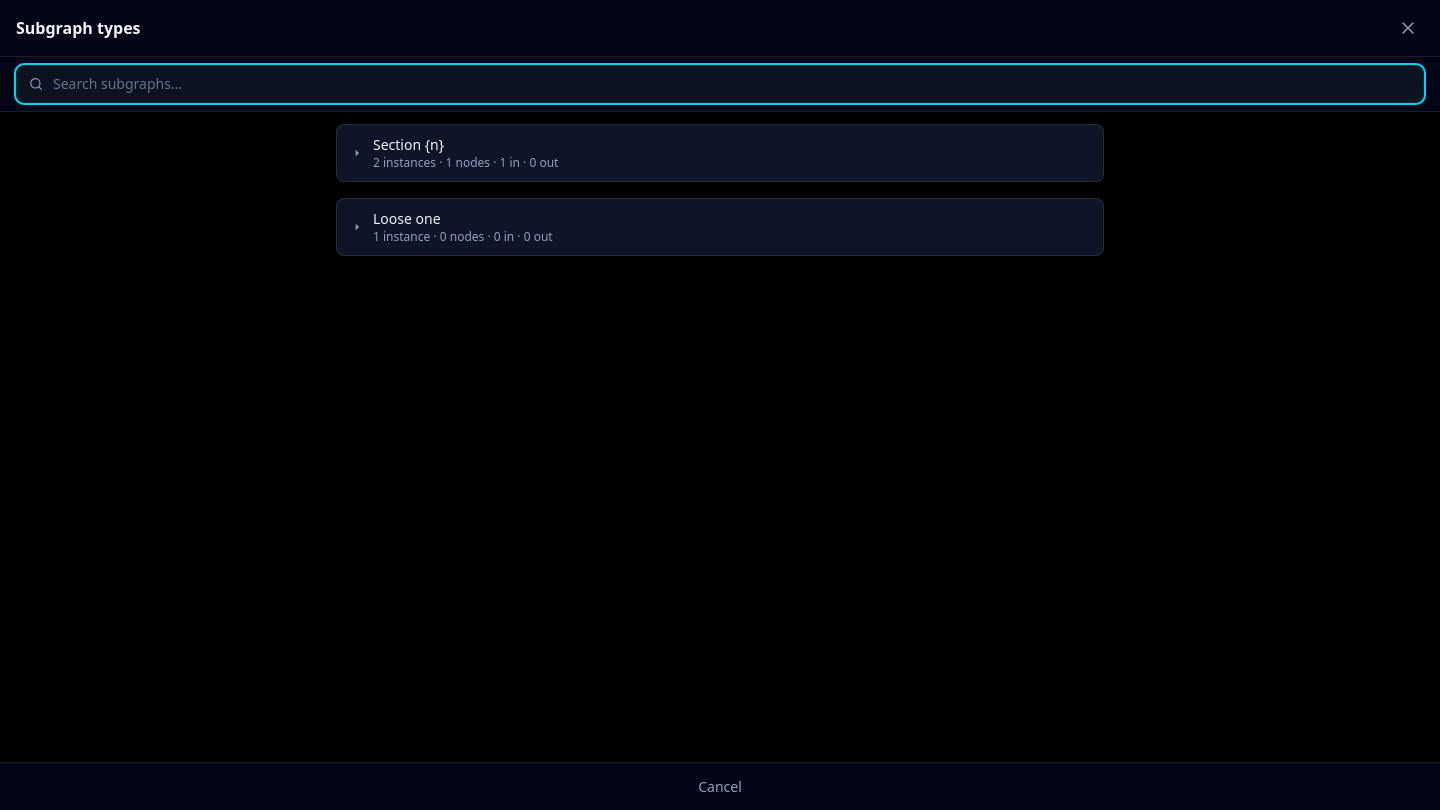
Test: SubgraphTypesModal › offers the two destructive choices when the type is in use
The image size is (1440, 810).
Click the button "Section {n} 2 instances · 1 nodes · 1 in · 0 out".
click(409, 144)  # box [337,125,1103,181]
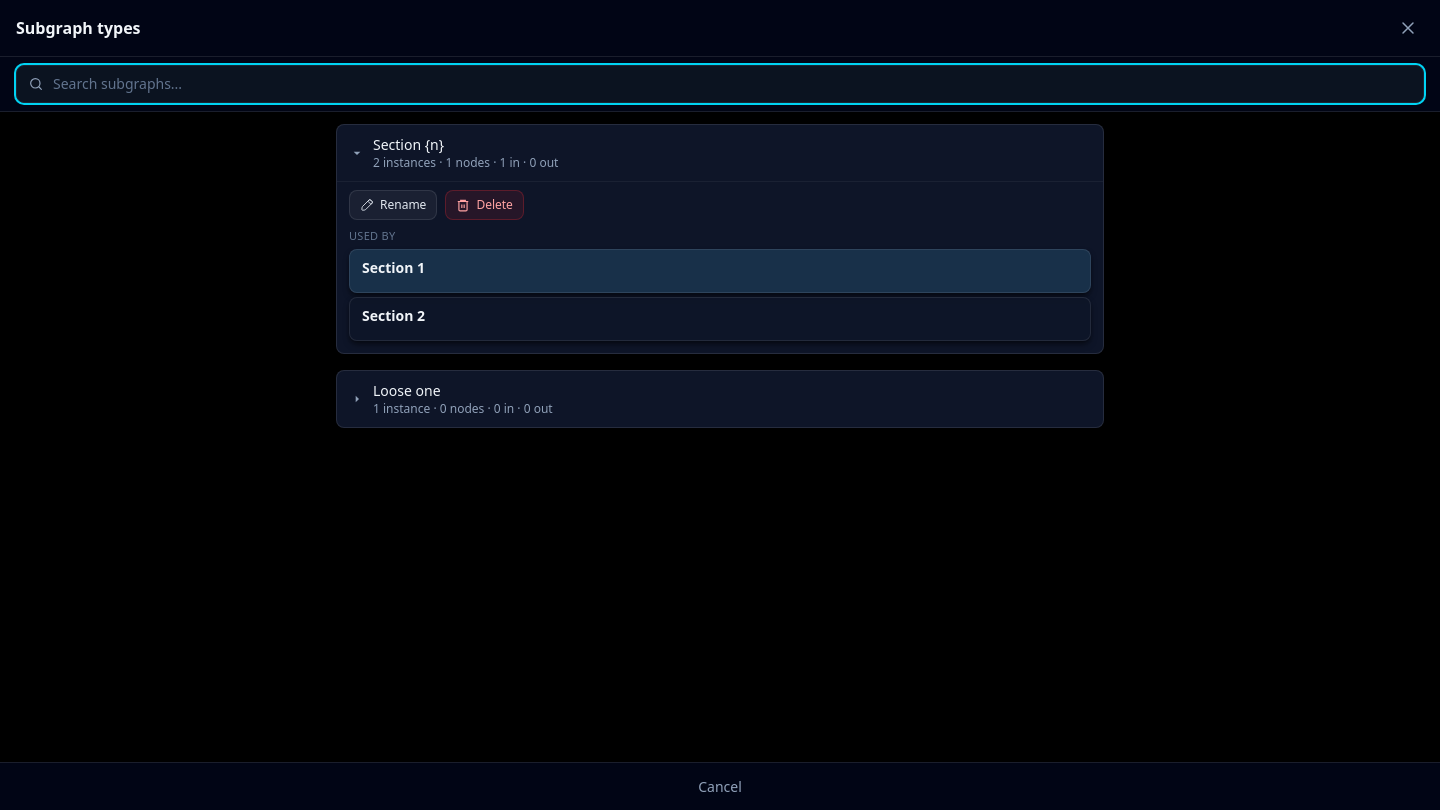
Click the button "Delete".
click(485, 205)  # box [445,190,524,220]
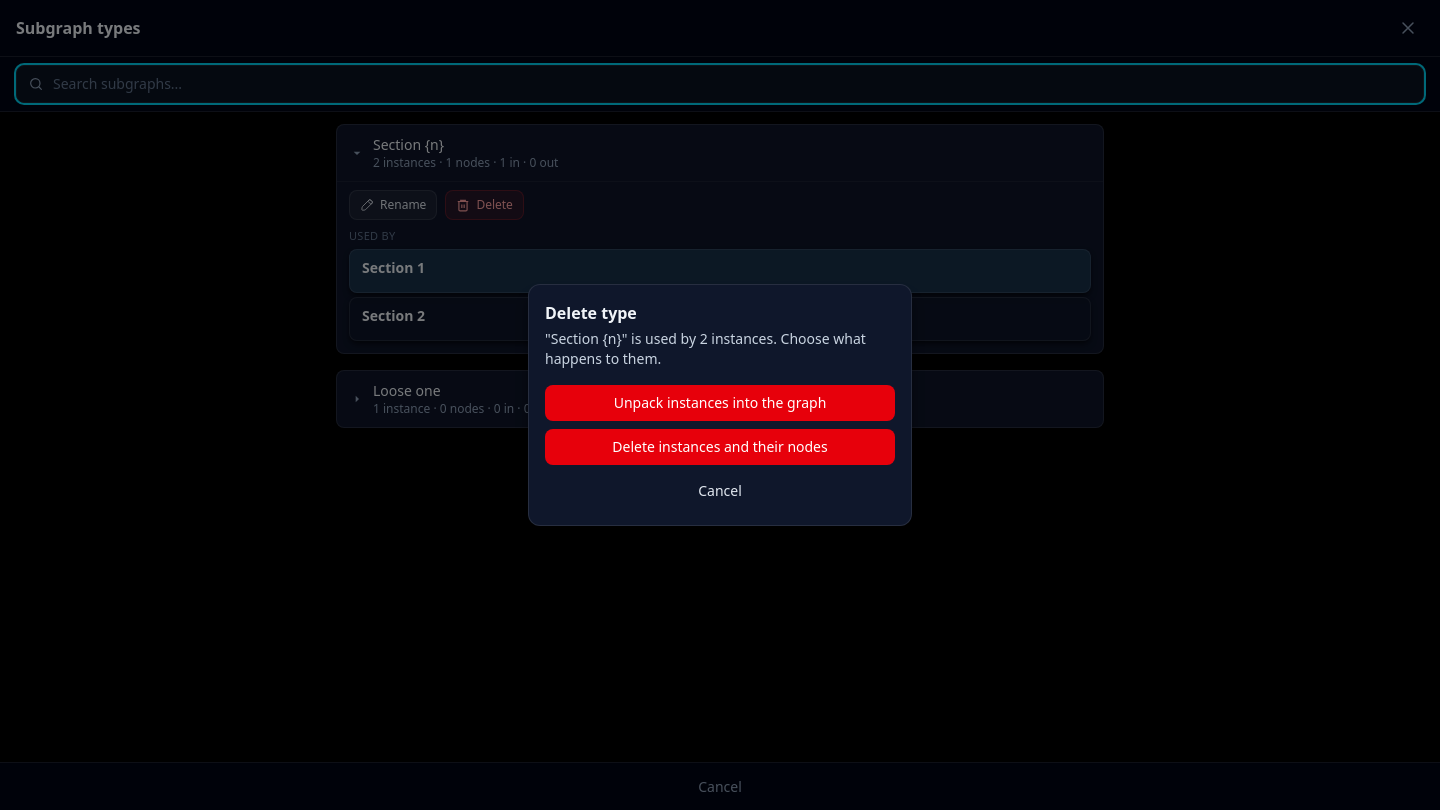
expect the text "is used by 2 instances" is shown: met, box [545,329,866,368]
expect the button "Unpack instances into the graph" is shown: met, box [545,385,895,421]
expect the button "Delete instances and their nodes" is shown: met, box [545,429,895,465]
